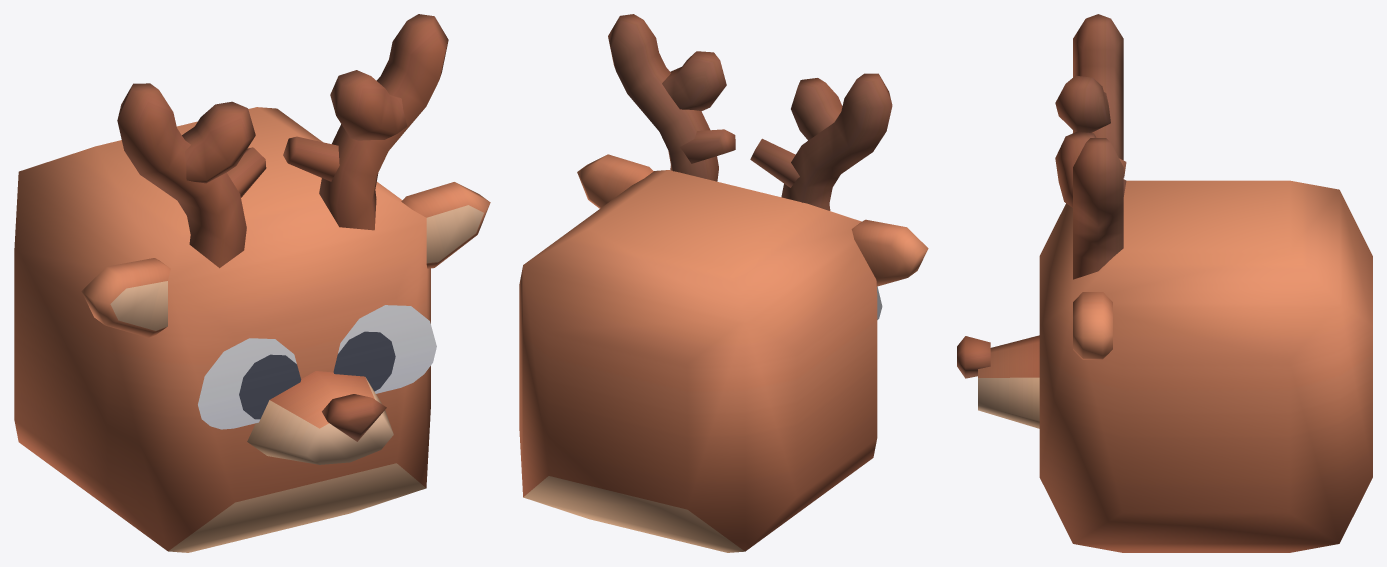
File: cube_deer.glb
3 views of the same model, side by side, from view 1: azimuth 30°, elevation 25°; view 2: azimuth 150°, elevation 25°; view 3: azimuth 270°, elevation 25° (orthographic). The views are drawn at different scales.
Parts seen in each view (by area): view 1: body; view 2: body; view 3: body.
Boxes of the visible parts, x1,y1,x2,y2 form: body: (14, 14, 490, 552); body: (519, 14, 928, 552); body: (957, 14, 1372, 552).
Bounding box in the file's own units: 1.54 × 1.81 × 1.56.
1 material, 1 textured.
